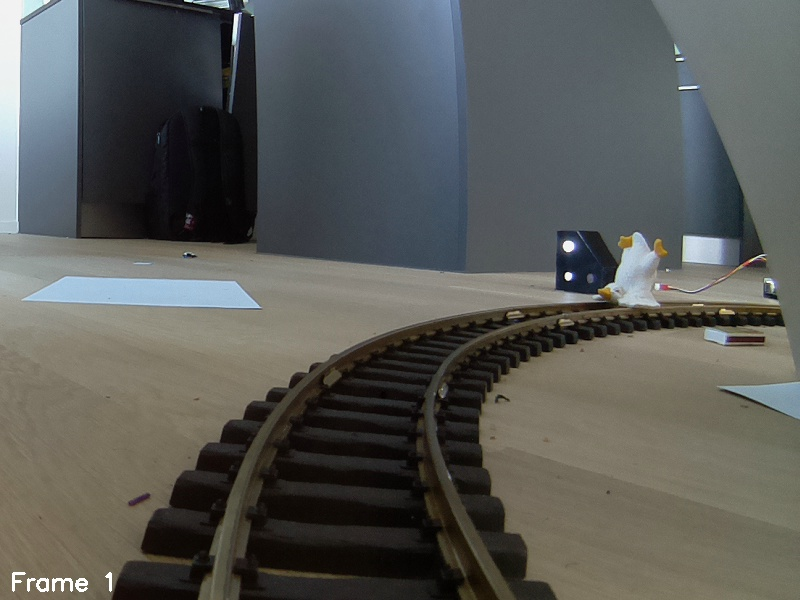Ente: (598, 224, 666, 315)
Fahrt: (558, 233, 605, 298)
